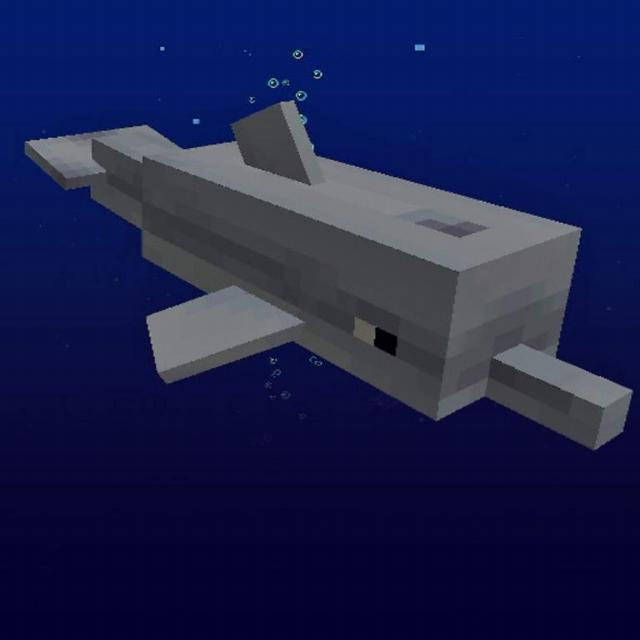Dolphin: (19, 97, 634, 454)
